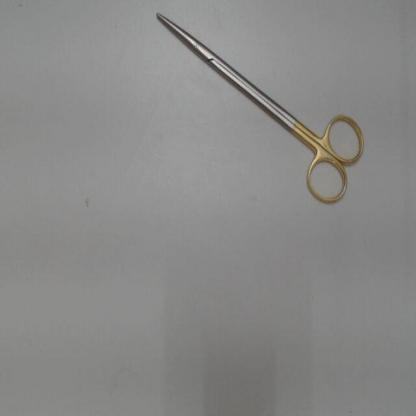7 Metzenbaum Scissors: (154, 8, 370, 212)
